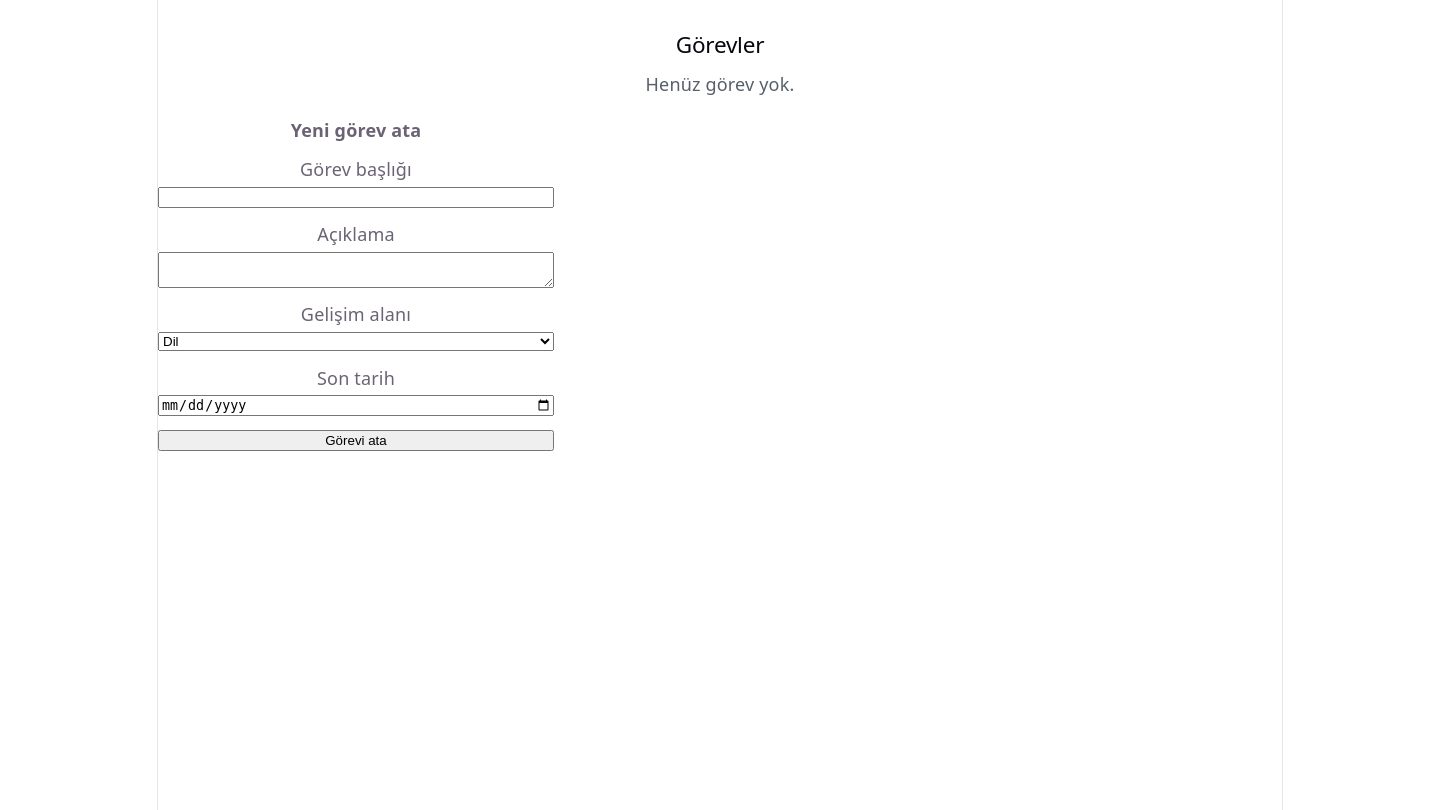
TaskList › lets a specialist assign a task that then appears in the list
Expected: the text "Henüz görev yok." is shown, [646,72,794,96]
Type "Tidy your room" into the field labelled "Görev başlığı" at coordinates (356, 197), box [158,187,554,208]
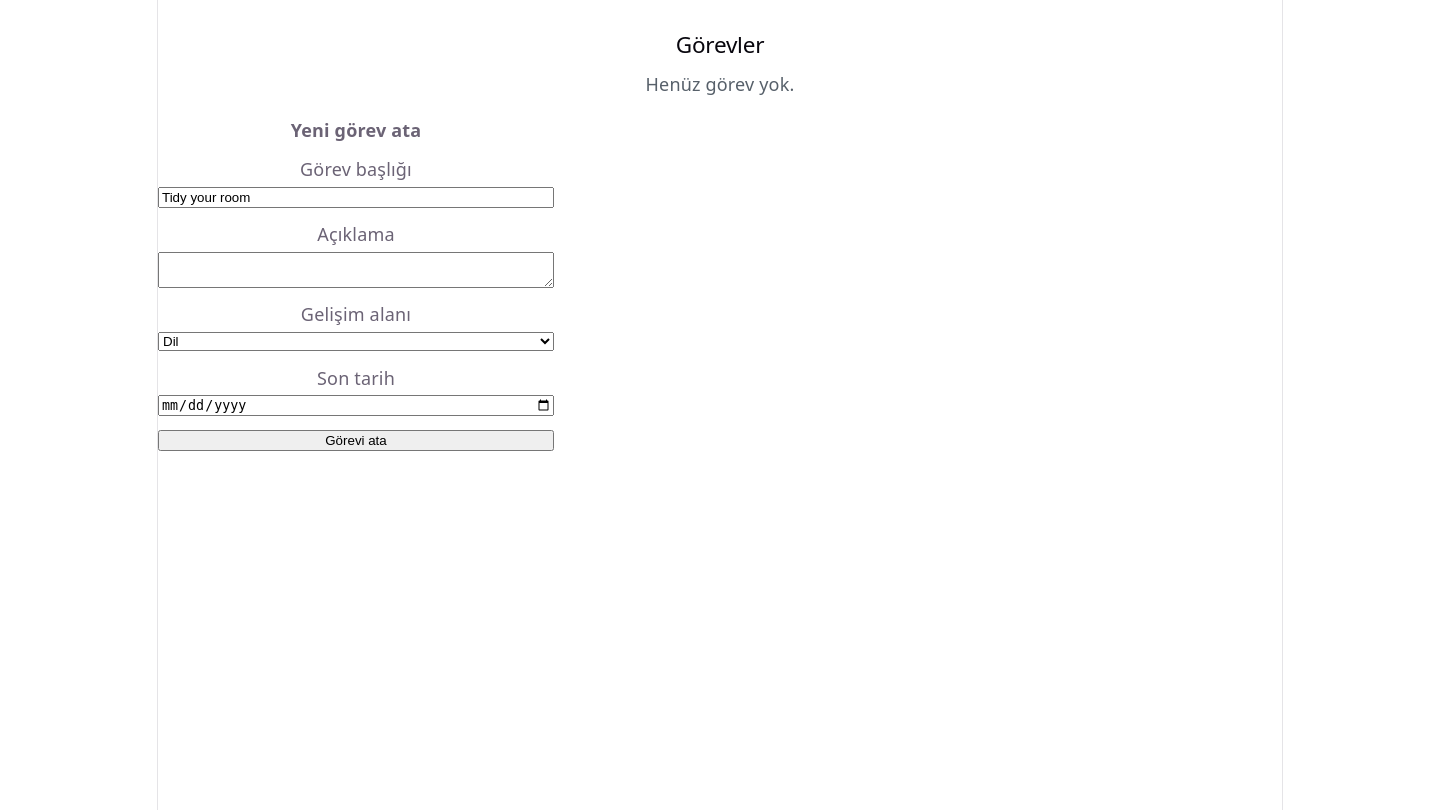
Select "Öz bakım" in the dropdown labelled "Gelişim alanı" at coordinates (356, 342), box [158,332,554,351]
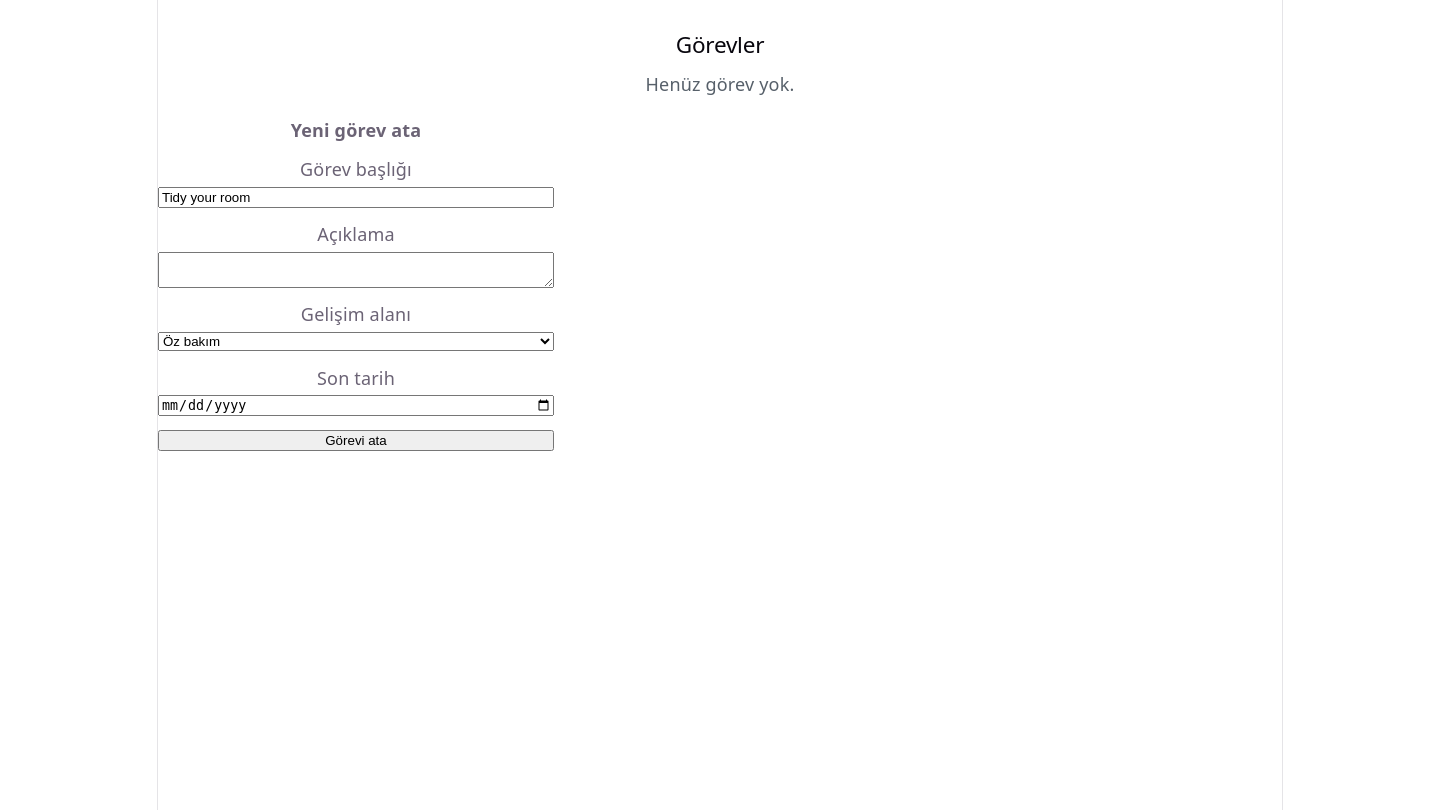
Type "2026-11-26" into the date field labelled "Son tarih" at coordinates (356, 406), box [158,395,554,416]
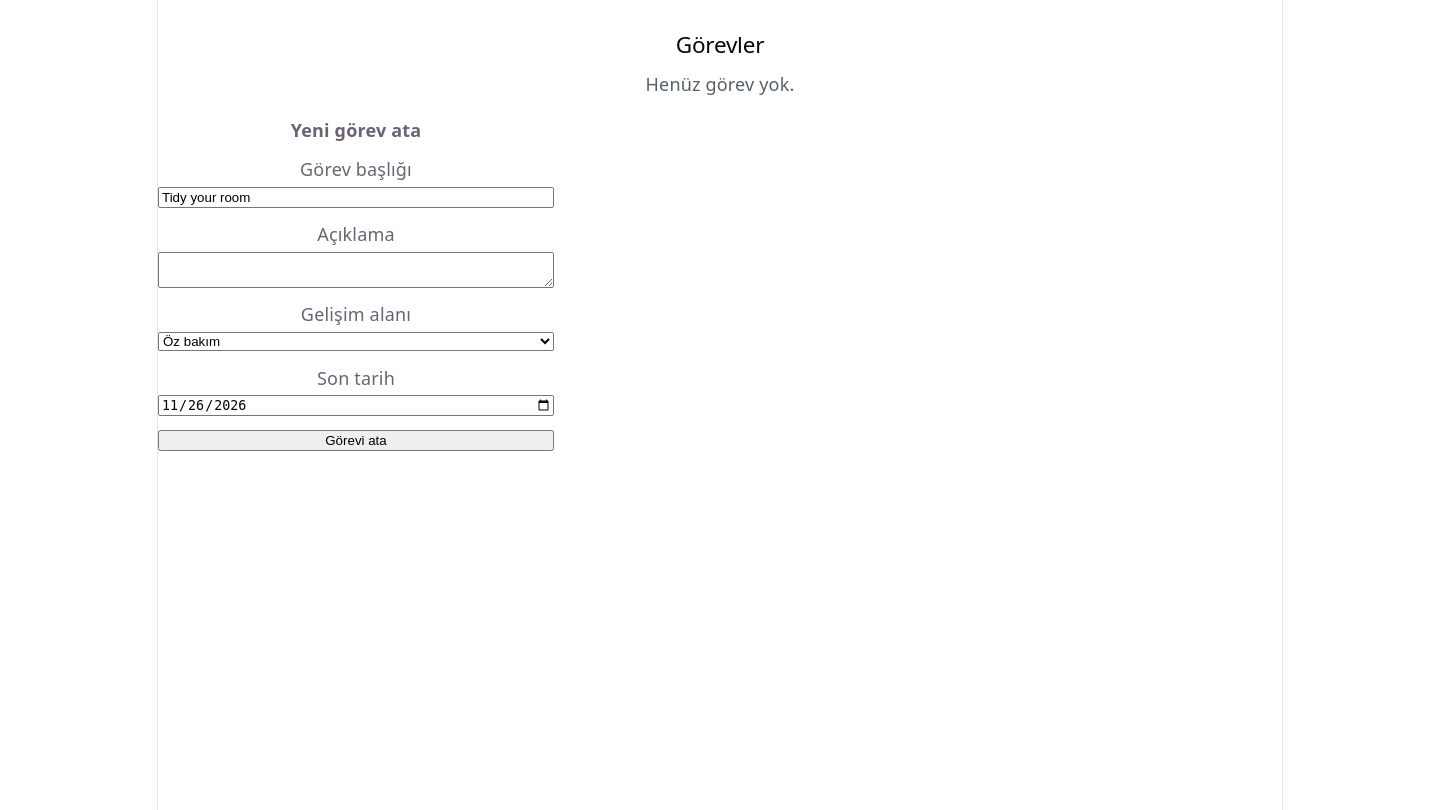
Click the button "Görevi ata" at coordinates (356, 440), box [158,430,554,451]
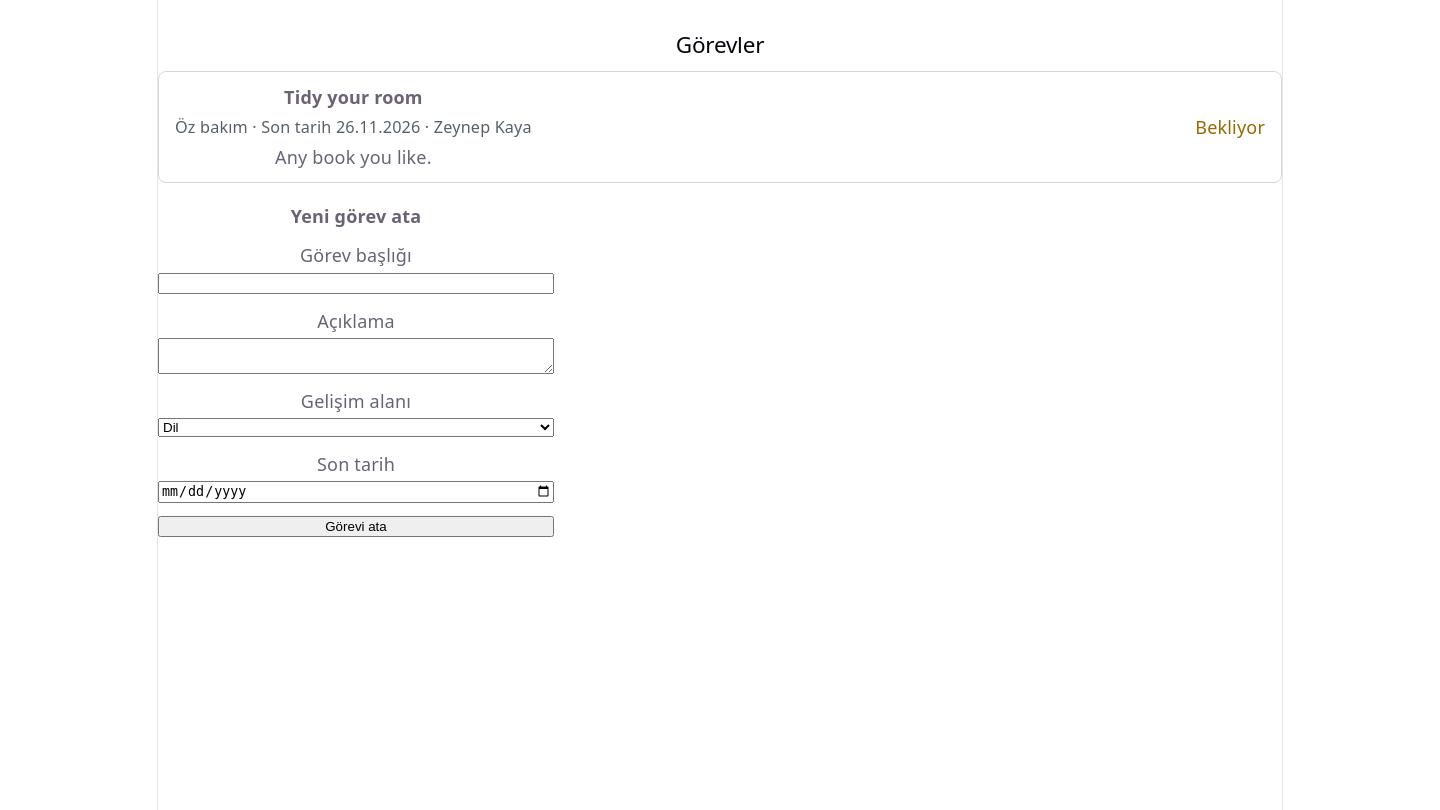
Result: the text "Tidy your room" is shown at [284,84,423,108]
